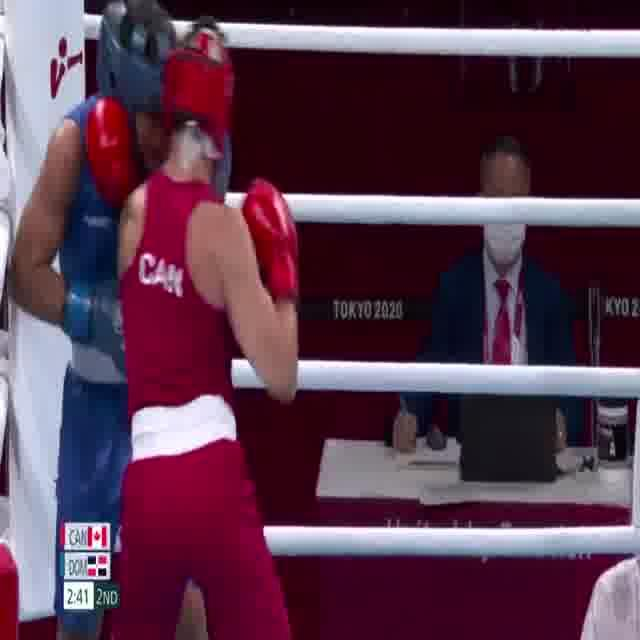blue-player: (5, 0, 236, 640)
red-player: (83, 17, 303, 640)
